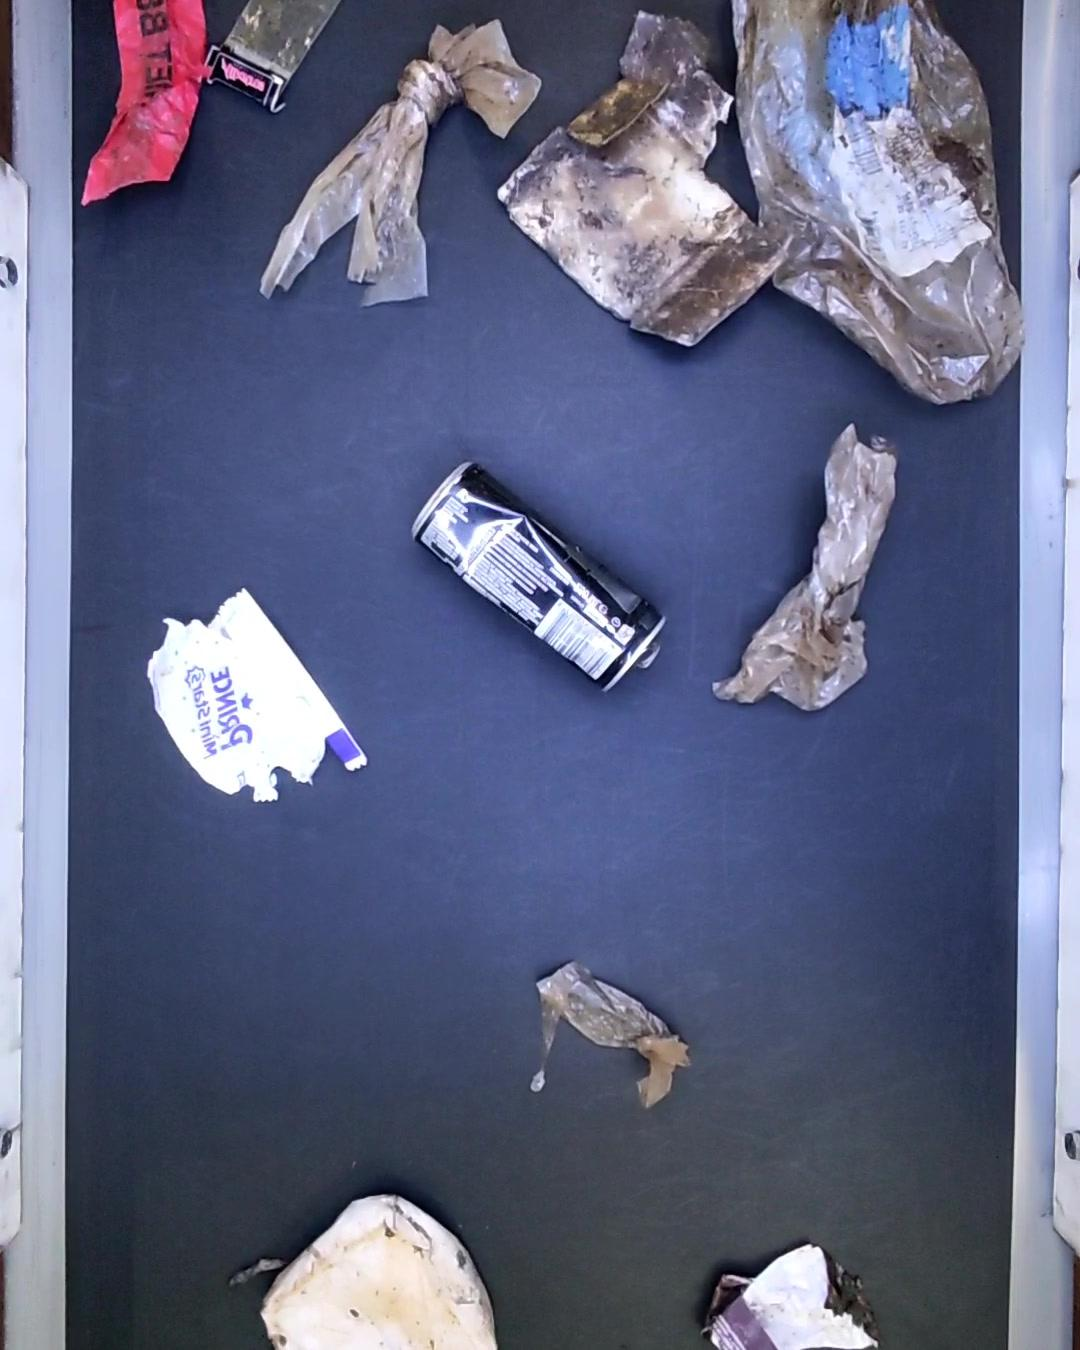Drankblikjes: (414, 460, 659, 695)
Plastic folies of stukken daarvan 2.5- 50 cm: (724, 2, 1016, 399), (260, 23, 519, 320), (704, 424, 900, 710), (532, 962, 685, 1121)
Snoep snack en chips verpakkingen: (151, 588, 357, 814), (701, 1240, 886, 1350)
